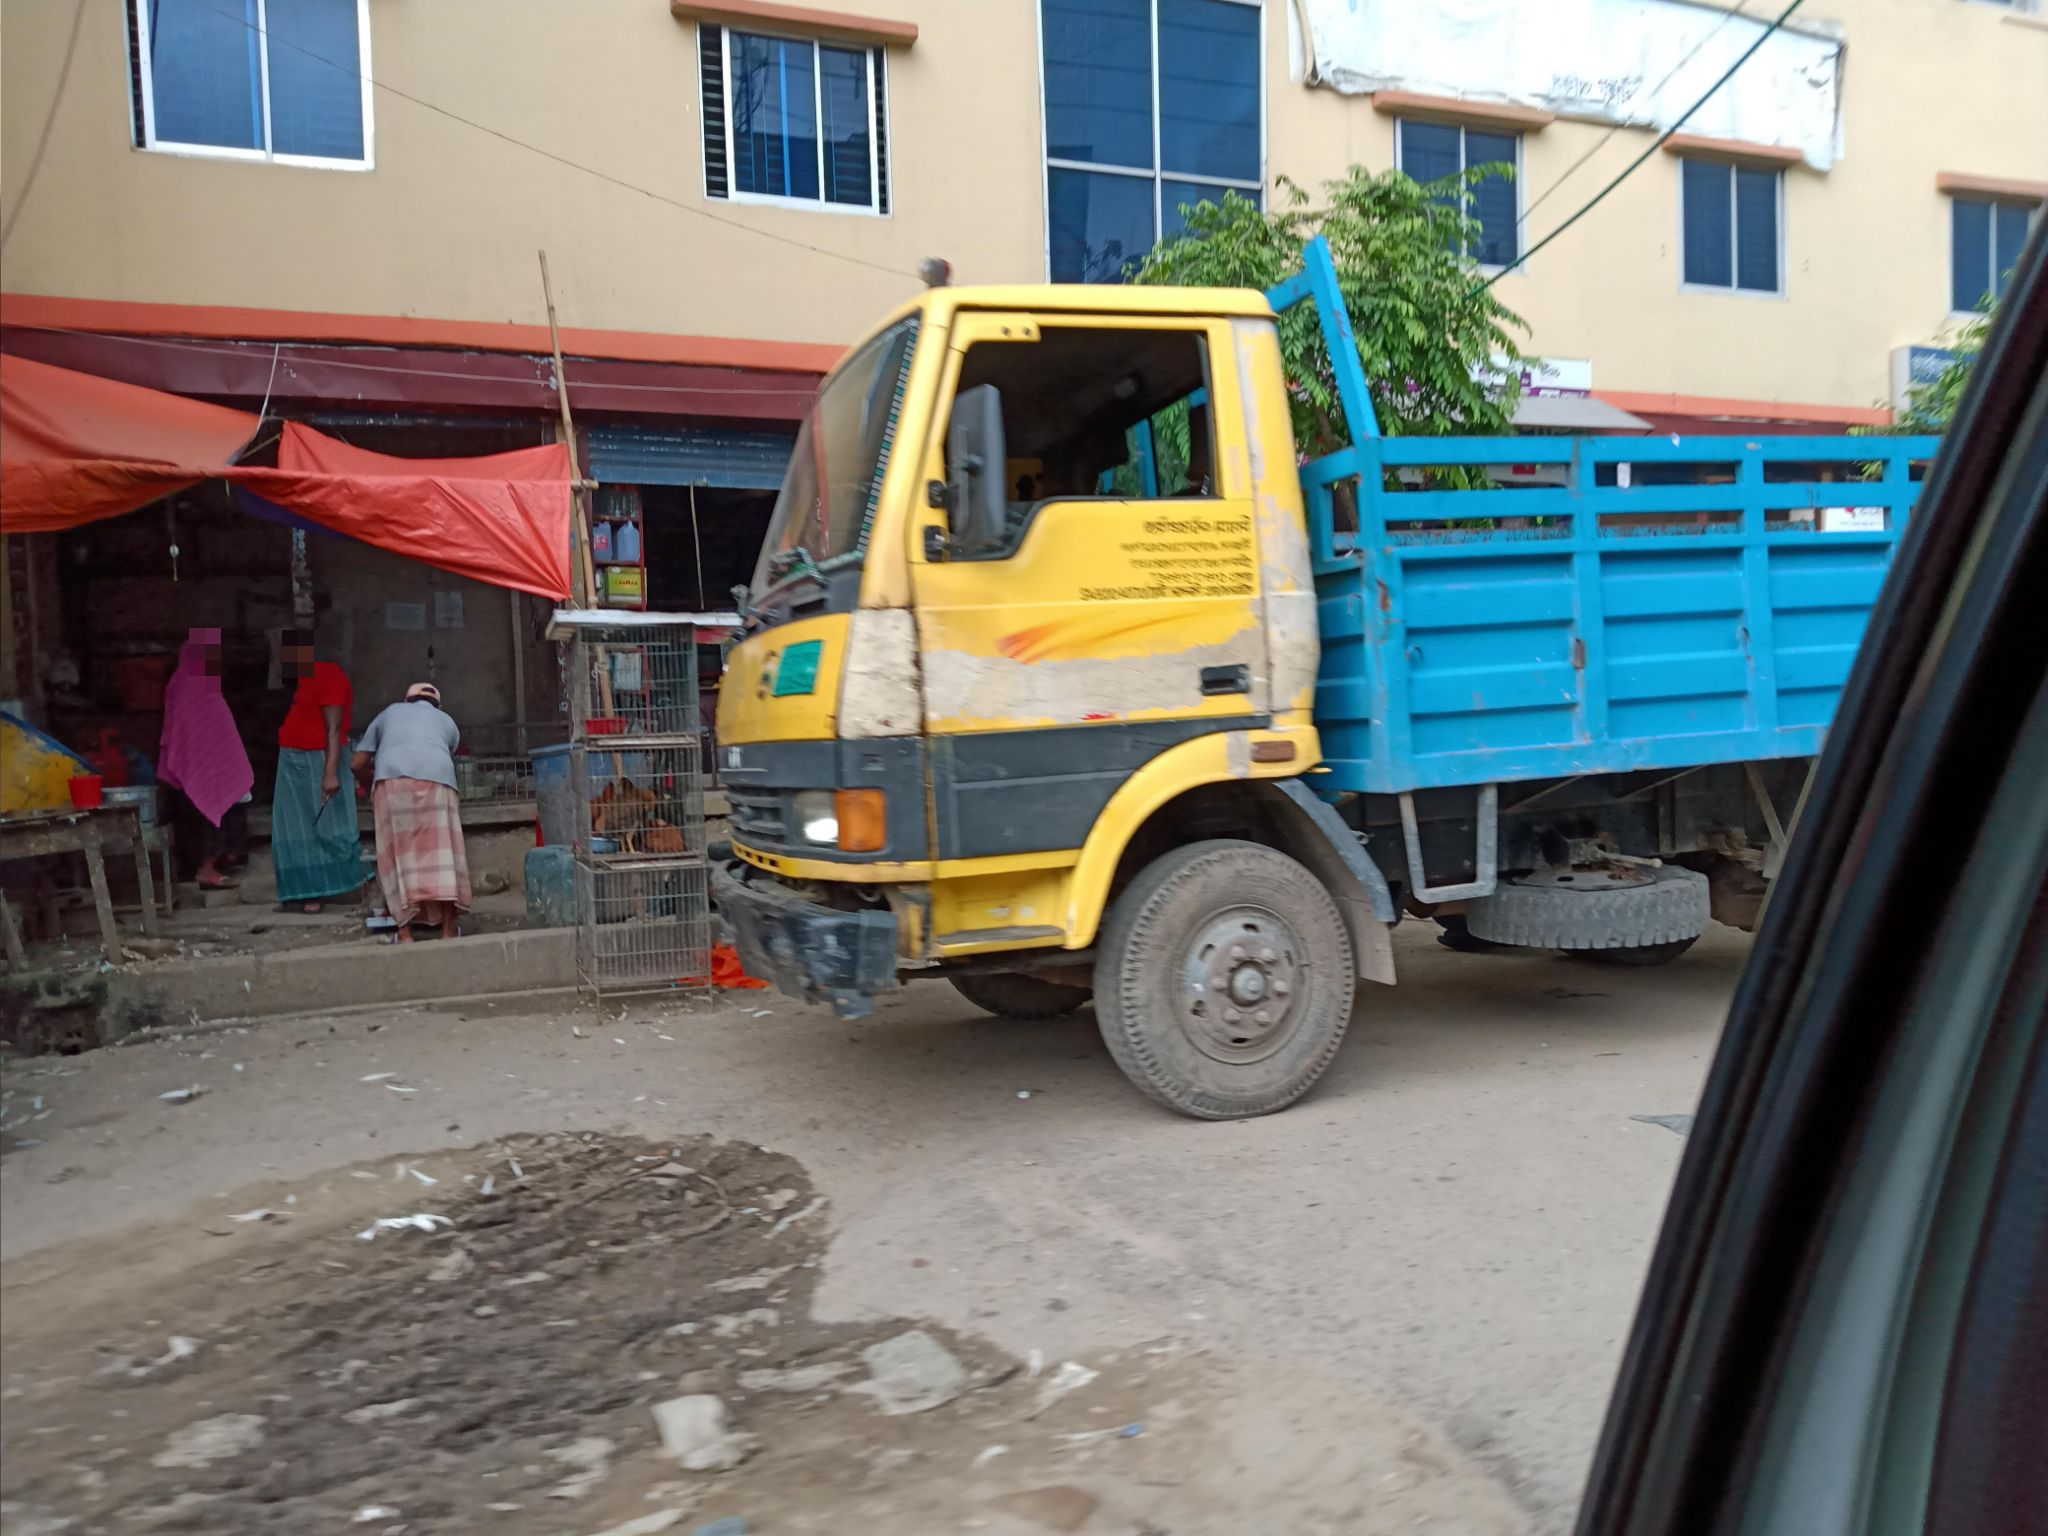truck: (703, 248, 1930, 1147)
